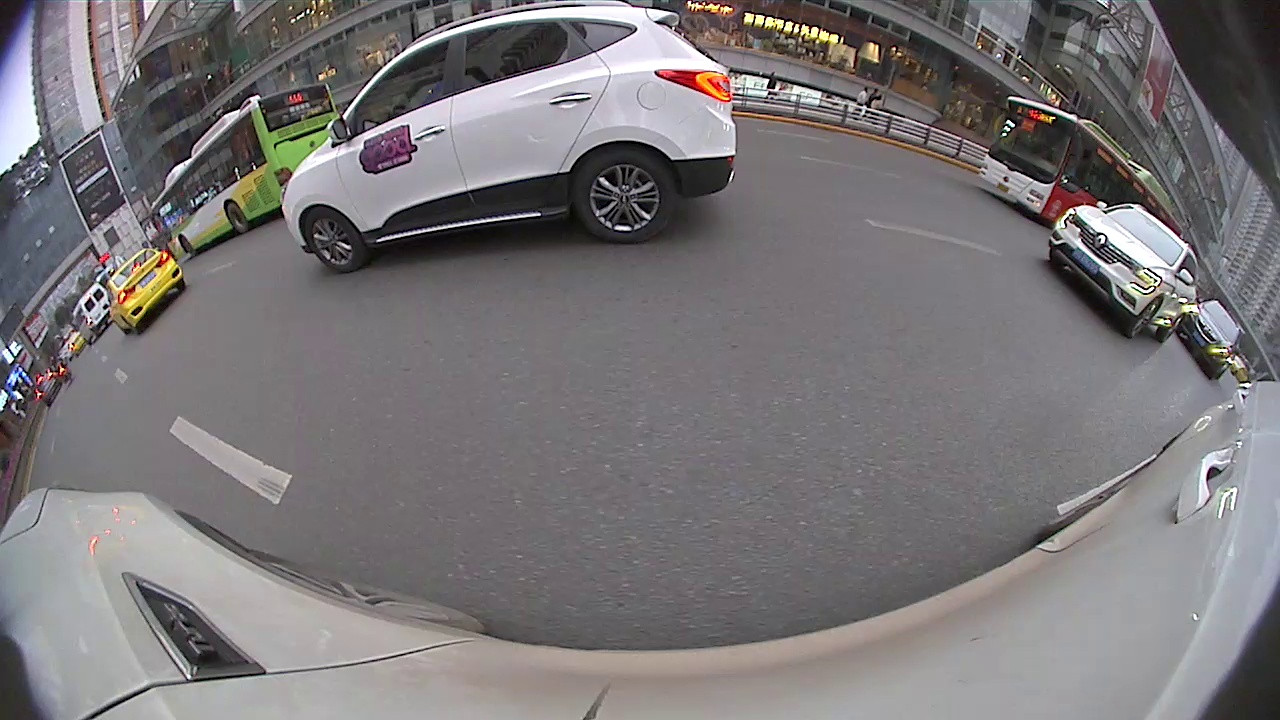bus: (151, 80, 346, 262), (977, 92, 1191, 241)
car: (279, 1, 739, 276), (1043, 203, 1203, 342), (101, 244, 188, 337), (1170, 296, 1248, 382)
front: (302, 208, 365, 276), (1123, 295, 1159, 342)
rear: (580, 148, 680, 243), (225, 199, 250, 233)
